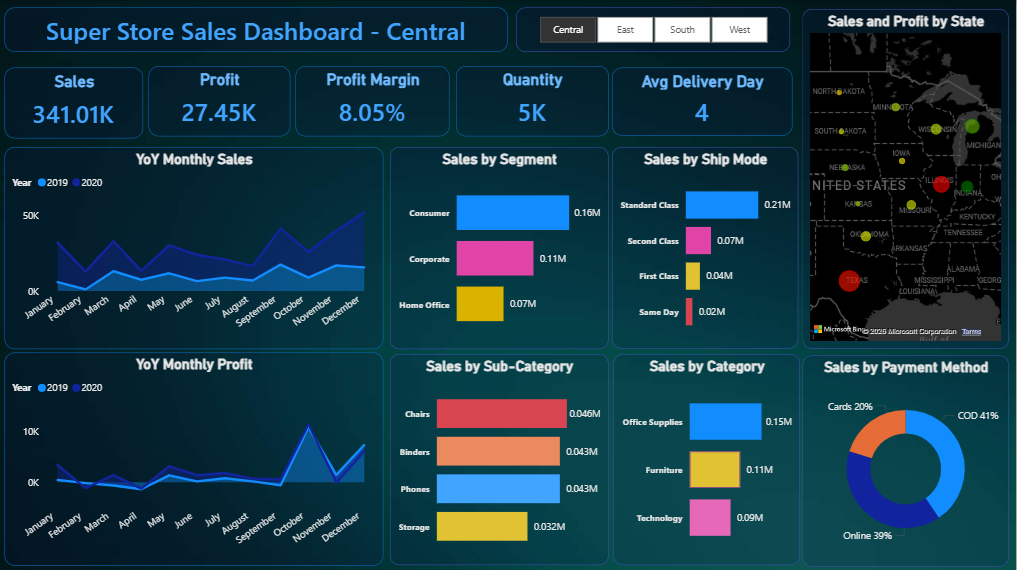

The page's visual inventory and layout, read from the dashboard file:
{"tool":"powerbi","page":{"name":"Page 1","canvas":[1280,720],"ordinal":0},"visuals":[{"type":"barChart","fields":{"Y":["Sum(SuperStore_Sales_Dataset.Sales)"],"Category":["SuperStore_Sales_Dataset.Category"]},"box":[772.1,446.8,234.7,265.8],"z":0},{"type":"stackedAreaChart","title":"YoY Monthly Sales","fields":{"Y":["Sum(SuperStore_Sales_Dataset.Sales)"],"Category":["SuperStore_Sales_Dataset.Order Date.Variation.Date Hierarchy.Month"],"Series":["SuperStore_Sales_Dataset.Order Date.Variation.Date Hierarchy.Year"]},"box":[6.4,184.5,477.2,254.5],"z":1000},{"type":"stackedAreaChart","title":"YoY Monthly Profit","fields":{"Category":["SuperStore_Sales_Dataset.Order Date.Variation.Date Hierarchy.Month"],"Series":["SuperStore_Sales_Dataset.Order Date.Variation.Date Hierarchy.Year"],"Y":["Sum(SuperStore_Sales_Dataset.Profit)"]},"box":[6.4,443.8,477.2,268.8],"z":2000},{"type":"map","title":"Sales and Profit by State","fields":{"Category":["SuperStore_Sales_Dataset.State"],"Size":["Sum(SuperStore_Sales_Dataset.Sales)"]},"box":[1011.4,10.6,259.8,428],"z":3000},{"type":"barChart","fields":{"Y":["Sum(SuperStore_Sales_Dataset.Sales)"],"Category":["SuperStore_Sales_Dataset.Ship Mode"]},"box":[771.9,184.8,234.8,254],"z":4000},{"type":"barChart","title":"Sales by Segment","fields":{"Category":["SuperStore_Sales_Dataset.Segment"],"Y":["Sum(SuperStore_Sales_Dataset.Sales)"]},"box":[491.7,184.5,275,254.8],"z":5000},{"type":"donutChart","title":"Sales by Payment Method","fields":{"Category":["SuperStore_Sales_Dataset.Payment Mode"],"Y":["Sum(SuperStore_Sales_Dataset.Sales)"]},"box":[1011.4,447,259.8,265.9],"z":6000},{"type":"slicer","fields":{"Values":["SuperStore_Sales_Dataset.Region"]},"box":[650.8,10,345.4,56.2],"z":7000},{"type":"cardVisual","title":"Sales","fields":{"Data":["Sum(SuperStore_Sales_Dataset.Sales)"]},"box":[6.4,84.3,175,89.1],"z":8000},{"type":"cardVisual","title":"Quantity","fields":{"Data":["Sum(SuperStore_Sales_Dataset.Quantity)"]},"box":[574.2,82.6,192.4,89],"z":9000},{"type":"cardVisual","title":"Profit","fields":{"Data":["Sum(SuperStore_Sales_Dataset.Profit)"]},"box":[187.3,83.1,178.4,89],"z":10000},{"type":"cardVisual","title":"Avg Delivery Day","fields":{"Data":["Avg(SuperStore_Sales_Dataset.AvgDelivery)"]},"box":[771.6,84.3,227.1,86],"z":11000},{"type":"barChart","title":"Sales by Sub-Category","fields":{"Y":["Sum(SuperStore_Sales_Dataset.Sales)"],"Category":["SuperStore_Sales_Dataset.Sub-Category"]},"box":[491.6,446.8,275.3,265.8],"z":12000},{"type":"cardVisual","title":"Profit Margin","fields":{"Data":["SuperStore_Sales_Dataset.ProfitMargin"]},"box":[372.5,83.9,194.1,89],"z":13000},{"type":"cardVisual","fields":{"Data":["SuperStore_Sales_Dataset.Dashboard Title"]},"box":[6,10,634,56],"z":14000}]}

Visuals, with their boxes in screenshot pixels (x1, y1, x2, y2), scaled from the page's 1280x720 canvas onto the 1017x570 screenshot:
barChart - Sum(SuperStore_Sales_Dataset.Sales) x SuperStore_Sales_Dataset.Category: BBox(613, 354, 800, 564)
"YoY Monthly Sales" stackedAreaChart: BBox(5, 146, 384, 348)
"YoY Monthly Profit" stackedAreaChart: BBox(5, 351, 384, 564)
"Sales and Profit by State" map: BBox(804, 8, 1010, 347)
barChart - Sum(SuperStore_Sales_Dataset.Sales) x SuperStore_Sales_Dataset.Ship Mode: BBox(613, 146, 800, 347)
"Sales by Segment" barChart: BBox(391, 146, 609, 348)
"Sales by Payment Method" donutChart: BBox(804, 354, 1010, 564)
slicer - SuperStore_Sales_Dataset.Region: BBox(517, 8, 792, 52)
"Sales" cardVisual: BBox(5, 67, 144, 137)
"Quantity" cardVisual: BBox(456, 65, 609, 136)
"Profit" cardVisual: BBox(149, 66, 291, 136)
"Avg Delivery Day" cardVisual: BBox(613, 67, 793, 135)
"Sales by Sub-Category" barChart: BBox(391, 354, 609, 564)
"Profit Margin" cardVisual: BBox(296, 66, 450, 137)
cardVisual - SuperStore_Sales_Dataset.Dashboard Title: BBox(5, 8, 508, 52)
